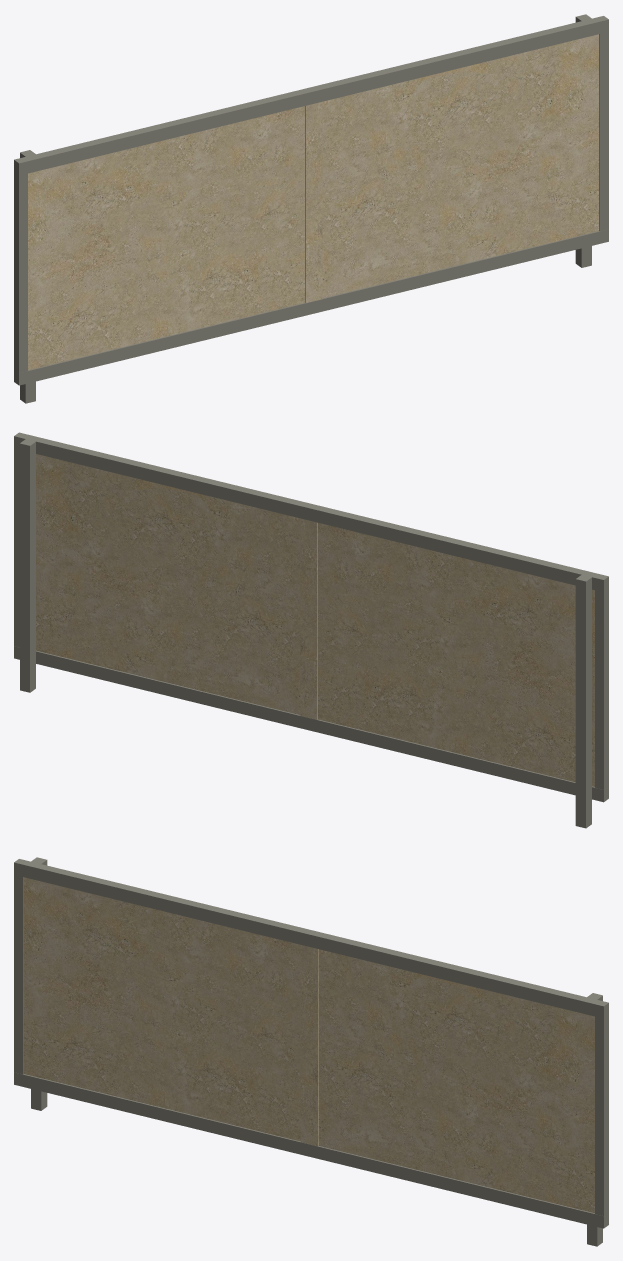
File: EAFboarddesignryoumen_w1998-h720_travertine.fbx
3 views of the same model, one above another, from view 1: azimuth 30°, elevation 25°; view 2: azimuth 150°, elevation 25°; view 3: azimuth 330°, elevation 25° (orthographic).
Visible parts, largest first — view 1: EAFboarddesignryoumen_w1998-h720_travertine; view 2: EAFboarddesignryoumen_w1998-h720_travertine; view 3: EAFboarddesignryoumen_w1998-h720_travertine.
Part boxes in pixels (x1=…): EAFboarddesignryoumen_w1998-h720_travertine: x1=14, y1=14, x2=608, y2=403; EAFboarddesignryoumen_w1998-h720_travertine: x1=14, y1=432, x2=608, y2=828; EAFboarddesignryoumen_w1998-h720_travertine: x1=14, y1=857, x2=608, y2=1246.
Size of the model in its own units: 200 by 80 by 6.5.
4 materials, 4 textured.
